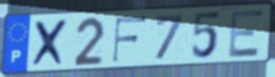2: (74, 15, 107, 69)
5: (190, 10, 224, 62)
7: (153, 12, 186, 62)
E: (227, 8, 266, 60)
F: (111, 15, 149, 64)
X: (30, 18, 72, 69)
